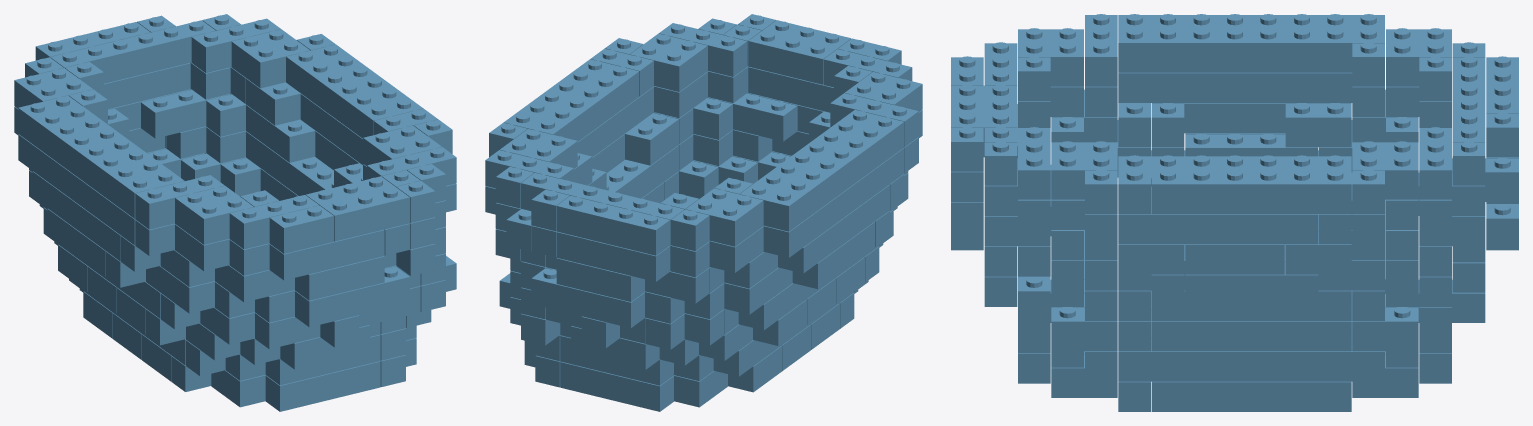
File: 096_bowl_L1.glb
3 renders of one model, left to right at view 1: azimuth 30°, elevation 25°; view 2: azimuth 150°, elevation 25°; view 3: azimuth 270°, elevation 25°, orthographic. The views are drawn at different scales.
Size of the model in its own units: 11.98 by 8.13 by 16.98.
